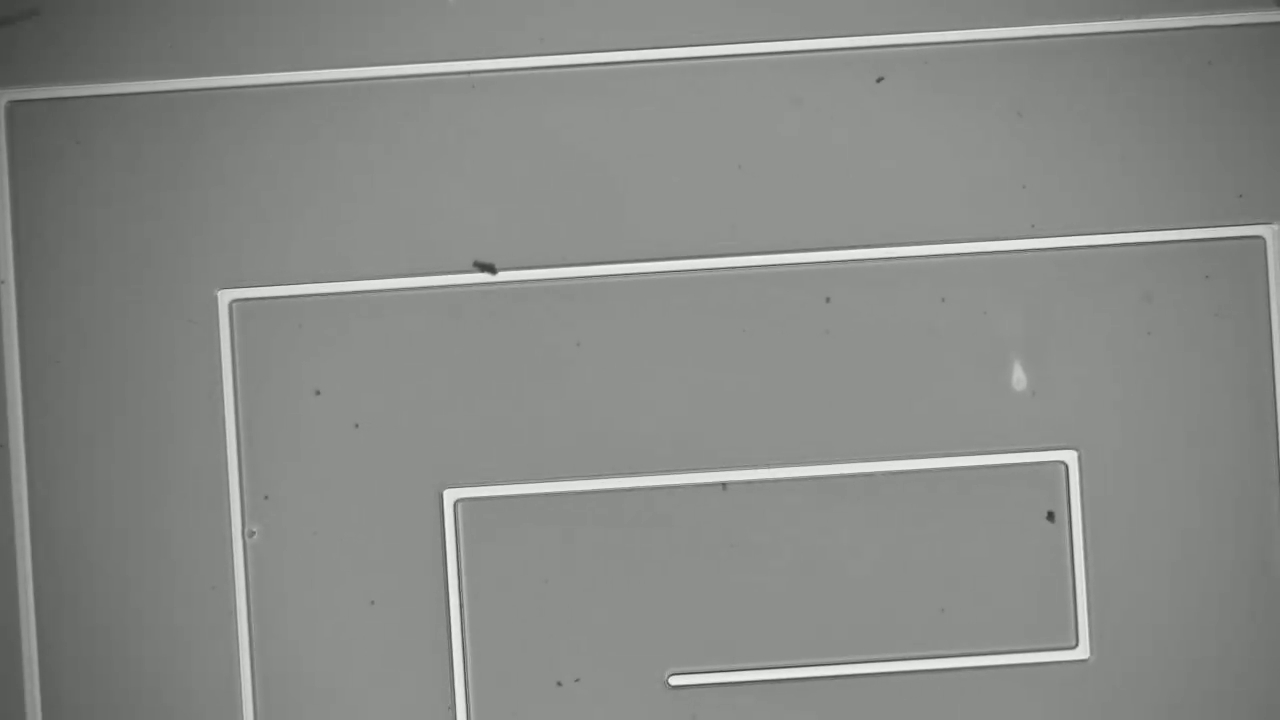stains_enbedded: (472, 253, 503, 291)
